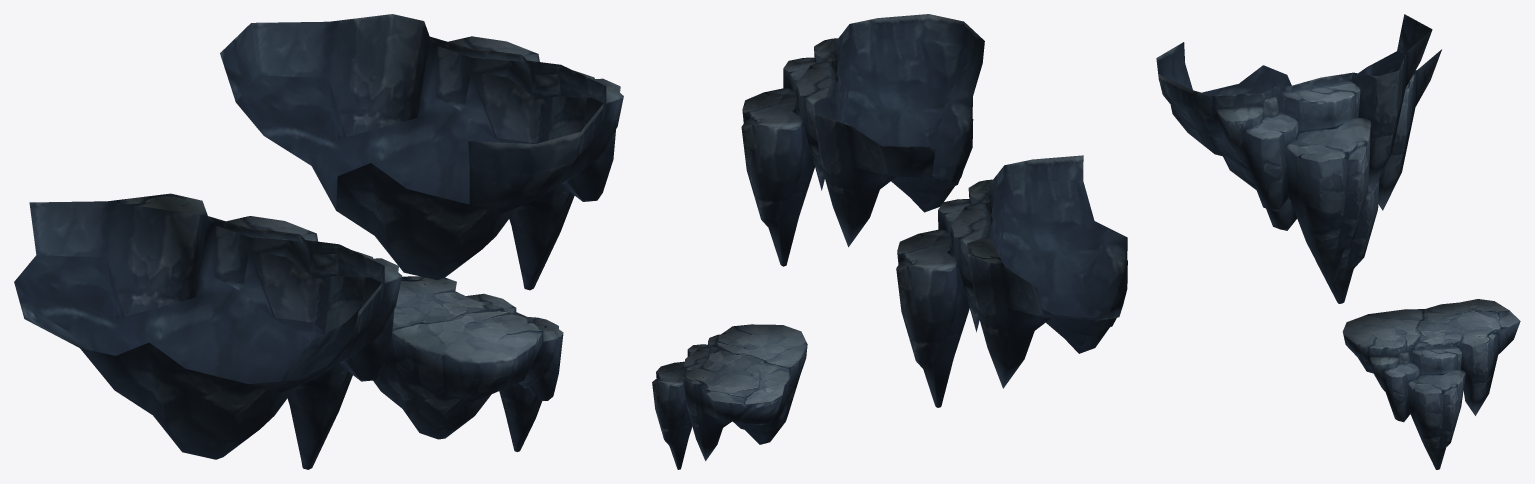
Rendered from Area_04_1.fbx.
3 views of the same model, side by side, from view 1: azimuth 30°, elevation 25°; view 2: azimuth 150°, elevation 25°; view 3: azimuth 270°, elevation 25° (orthographic). The views are drawn at different scales.
Visible parts, largest first — view 1: Area_04_1; view 2: Area_04_1; view 3: Area_04_1.
Part boxes in pixels (box(x1,y1,x2,y2)): Area_04_1: box(14, 14, 623, 469); Area_04_1: box(652, 14, 1127, 469); Area_04_1: box(1156, 14, 1520, 469).
Bounding box in the file's own units: 6643 × 5497 × 5202.
